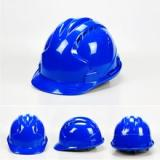Helmet: (29, 16, 123, 96), (52, 115, 104, 151), (109, 114, 156, 152), (6, 113, 48, 155)
